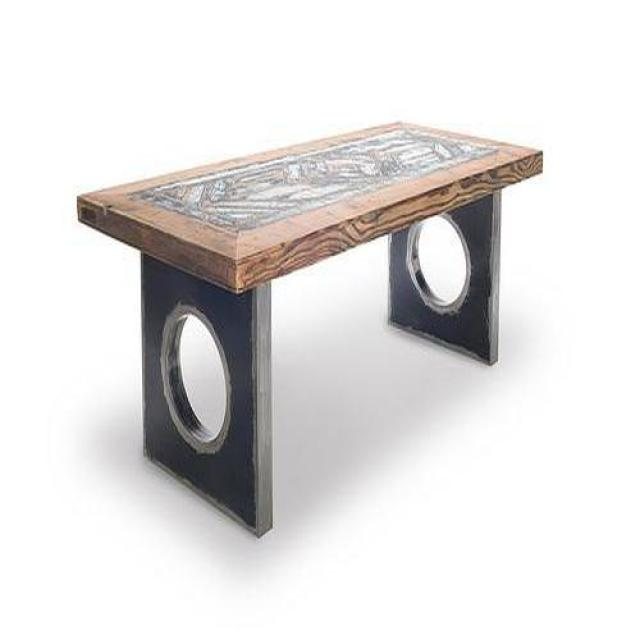table: (76, 120, 545, 539)
